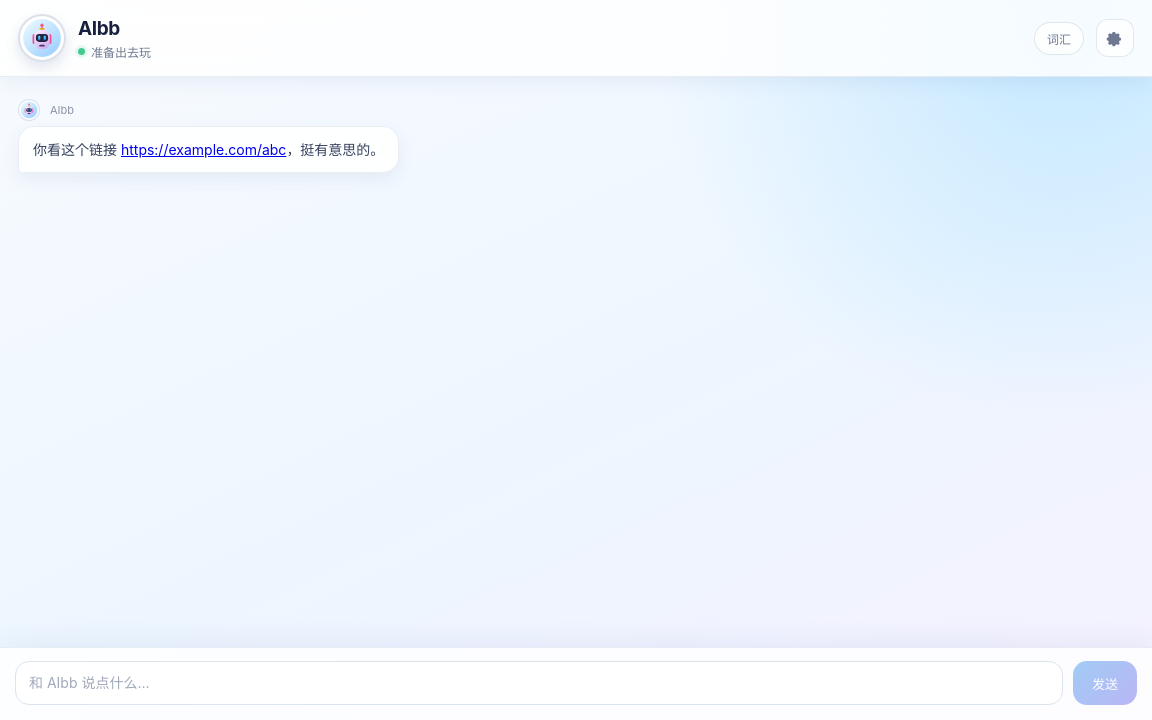
Test: ChatPanel › turns bare URLs in chat text into openable links and reports open failures
Click the link "https://example.com/abc". click: (204, 150)
box: [121, 141, 286, 158]
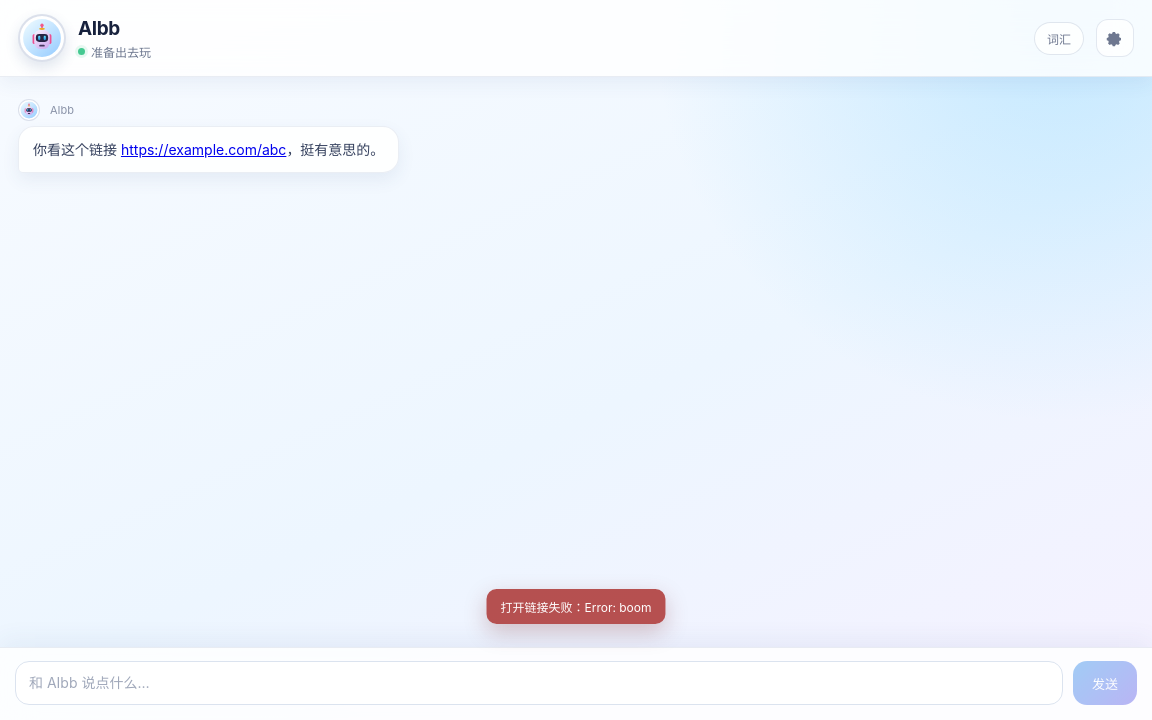
Expected: the message with test id "link-error-toast" shows "打开链接失败", [500, 600, 584, 615]
